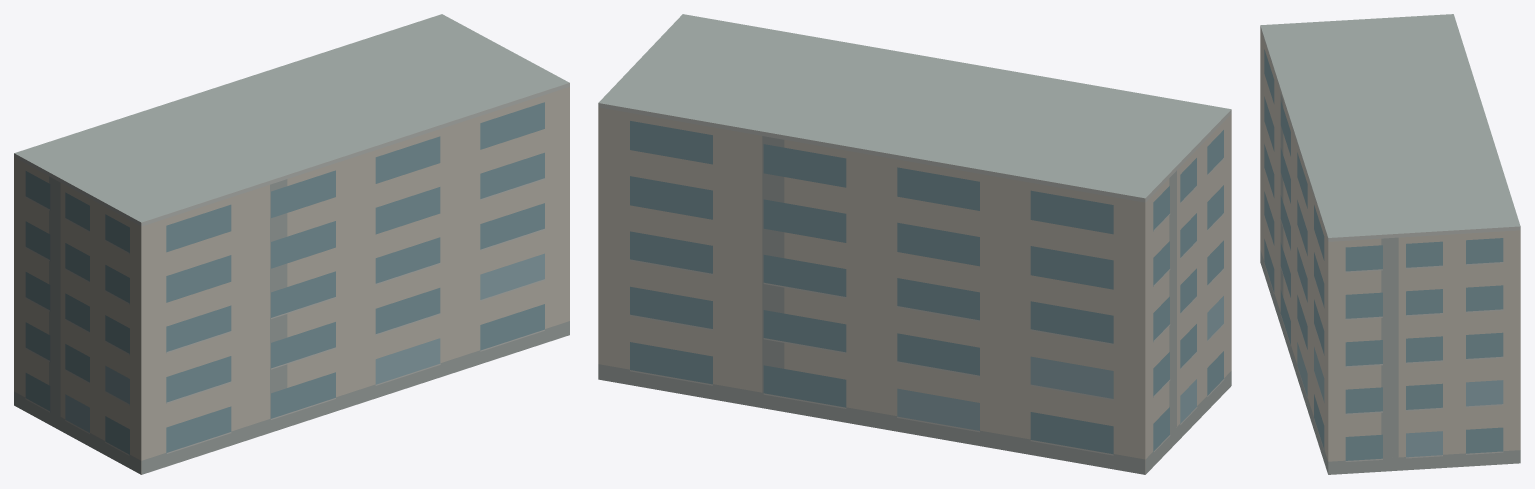
The model's file is survey-upis-32849146.glb.
The picture shows the model from 3 angles, left to right: view 1: azimuth 30°, elevation 25°; view 2: azimuth 150°, elevation 25°; view 3: azimuth 270°, elevation 25°; orthographic projection. The views are drawn at different scales.
Parts seen in each view (by area): view 1: survey-upis-32849146.tmp; view 2: survey-upis-32849146.tmp; view 3: survey-upis-32849146.tmp.
Part boxes in pixels (x1,y1,x2,y2): survey-upis-32849146.tmp: [14, 14, 569, 474]; survey-upis-32849146.tmp: [598, 14, 1231, 474]; survey-upis-32849146.tmp: [1260, 14, 1520, 474].
Size of the model in its own units: 30.94 by 15.25 by 15.2.
